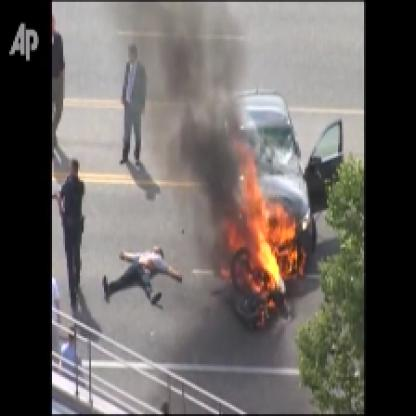Fire: (215, 126, 301, 316)
Smoke: (123, 2, 243, 232)
